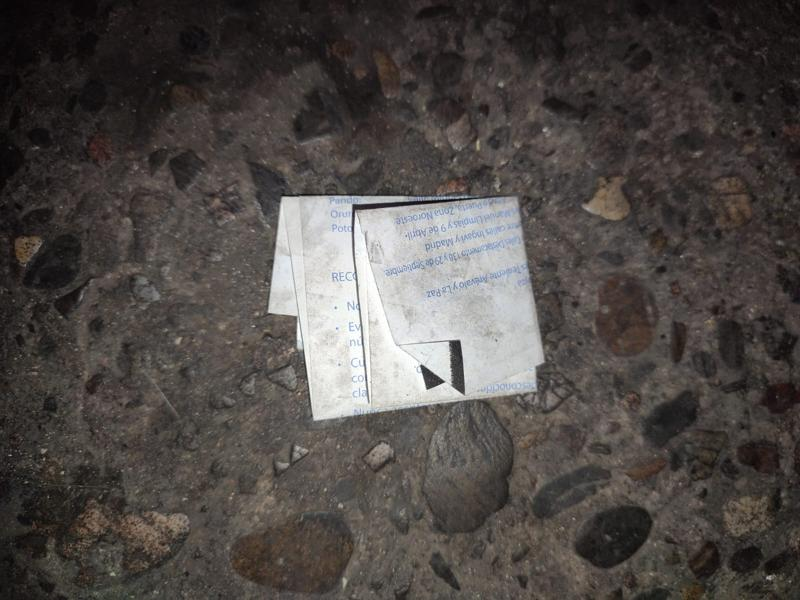papel: (269, 196, 546, 423)
